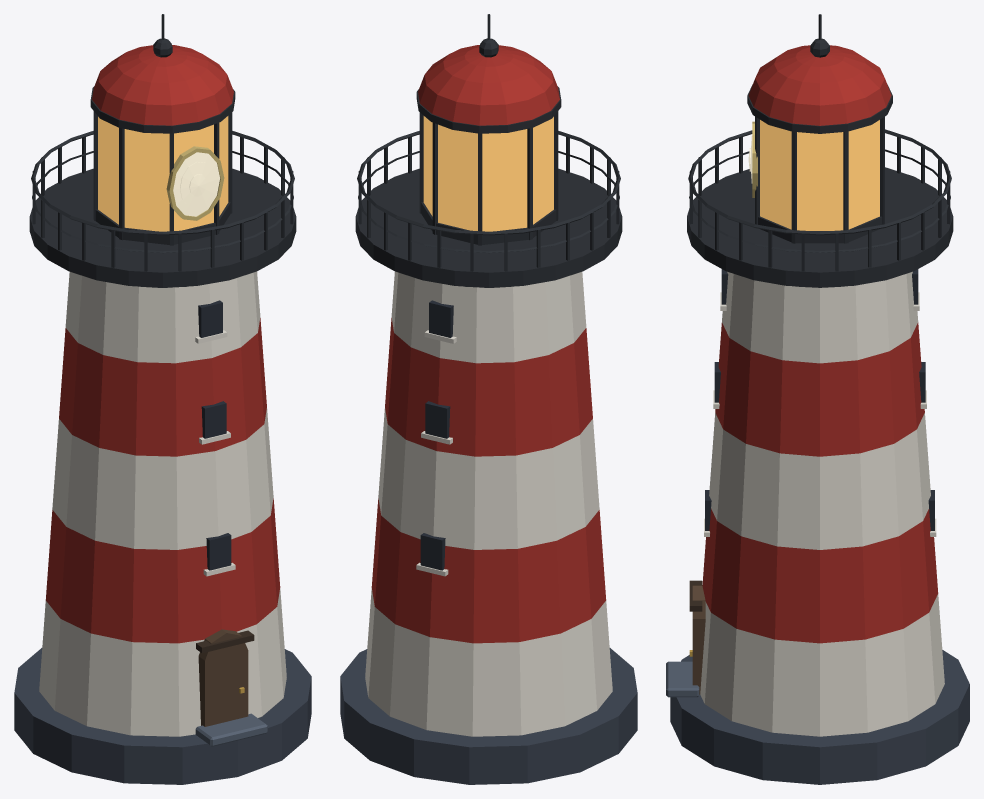
Rendered from lighthouse.glb.
The picture shows the model from 3 angles, left to right: view 1: azimuth 30°, elevation 25°; view 2: azimuth 150°, elevation 25°; view 3: azimuth 270°, elevation 25°; orthographic projection.
Parts seen in each view (by area): view 1: tower, lamp_head, gallery, lens; view 2: tower, lamp_head, gallery; view 3: tower, lamp_head, gallery.
Part boxes in pixels (box(x1,y1,x2,y2)): tower: box(14, 271, 311, 784); lamp_head: box(90, 14, 235, 245); gallery: box(29, 131, 296, 287); lens: box(166, 146, 224, 220); tower: box(340, 271, 637, 784); lamp_head: box(416, 14, 561, 245); gallery: box(355, 131, 622, 287); tower: box(666, 269, 969, 784); lamp_head: box(747, 14, 892, 243); gallery: box(687, 129, 953, 287).
Size of the model in its own units: 7.2 by 18.75 by 7.3.
2 materials, 2 textured.
